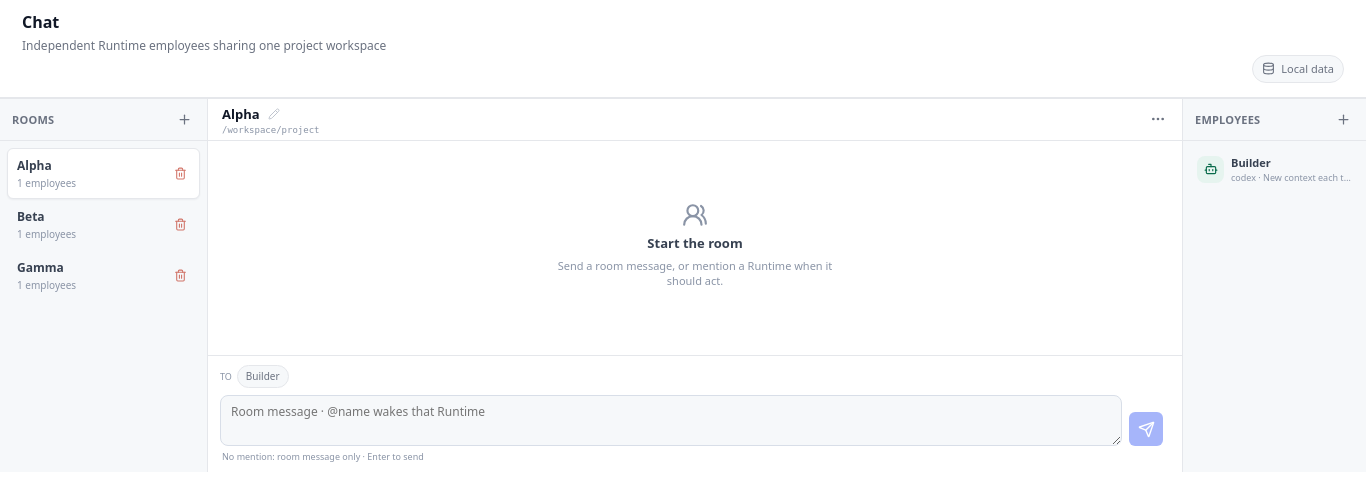
Test: TeamChatPage rooms › does not apply a delete fallback after the user selects another room during refresh
Expected: the 1st text "Alpha" is shown, [222,105,260,123]
What coordinates should you click on to do the following:
click the button with class "team-chat-room-select" showing "Beta 1 employees"
I would click on:
 (104, 224)
Its box is [7,199,200,250].
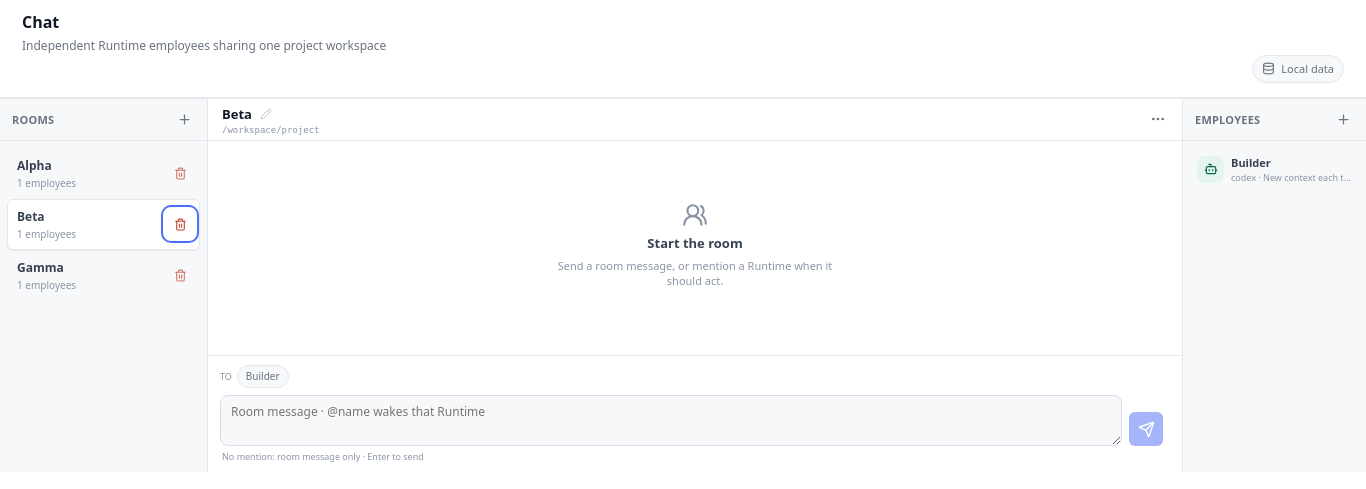
Now the 1st text "Beta" is shown, box [222,105,252,123]
What coordinates should you click on to do the following:
click the button named "Delete room “Beta”"
I would click on:
 (180, 224)
Its box is [165,209,195,239].
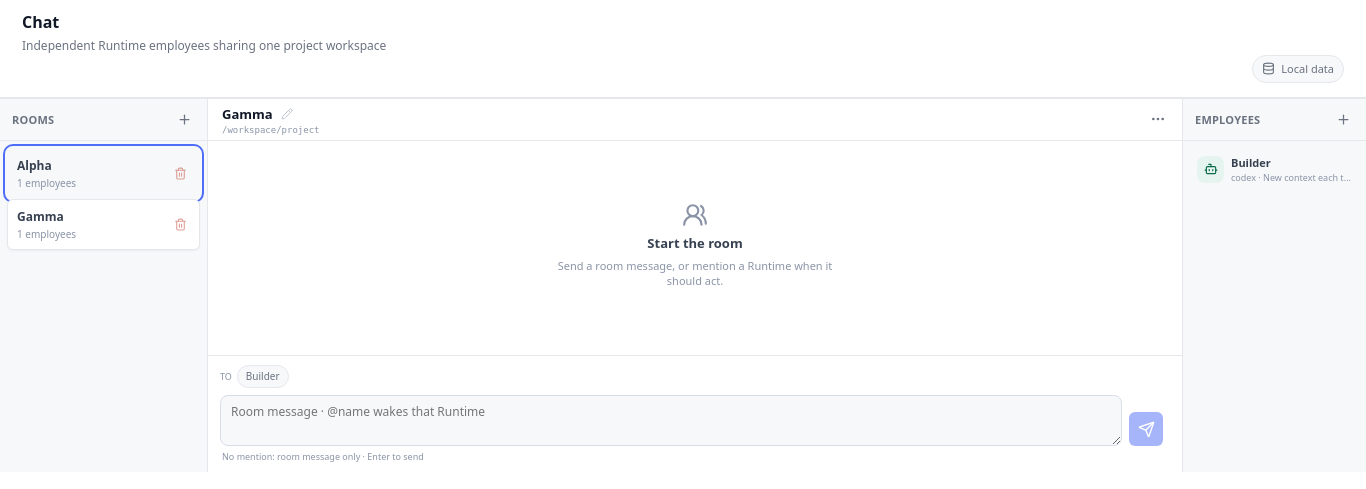
Expected: the text "Gamma" below "Rooms" is shown, [17,208,64,225]
What coordinates should you click on to do the following:
click the button with class "team-chat-room-select" showing "Alpha 1 employees"
I would click on:
 (104, 173)
Its box is [7,148,200,199].
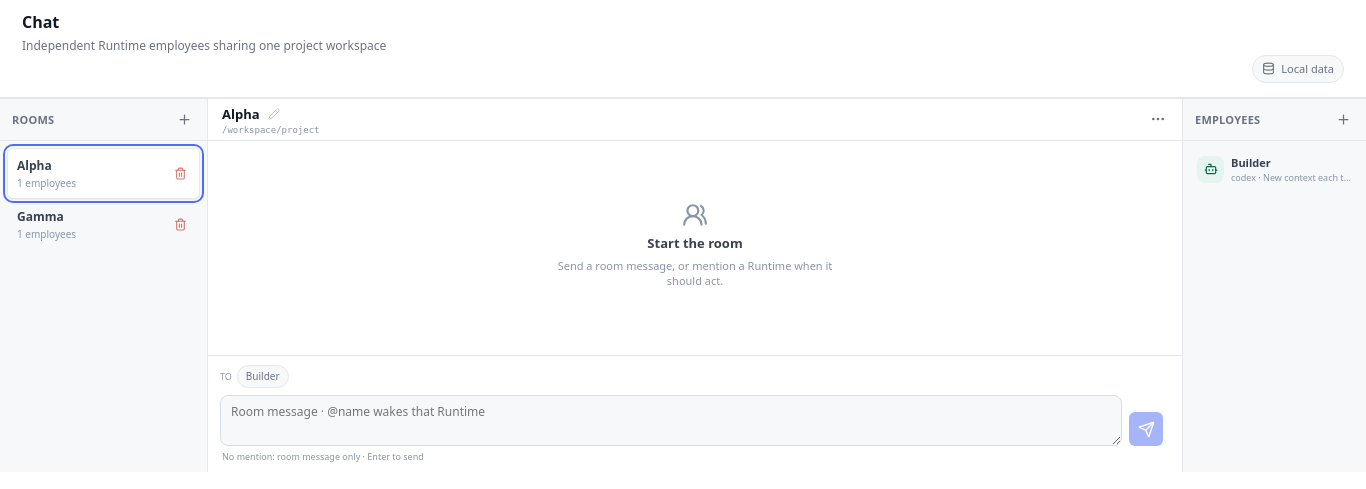
Expected: the text "Alpha" below "Rooms" is shown, [17,157,52,174]
Now the 1st text "Alpha" is shown, box [222,105,260,123]
